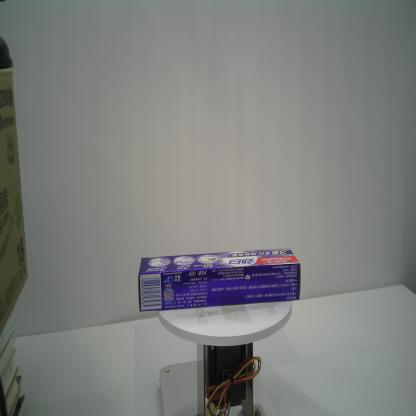Personal Hygiene: (138, 247, 301, 311)
